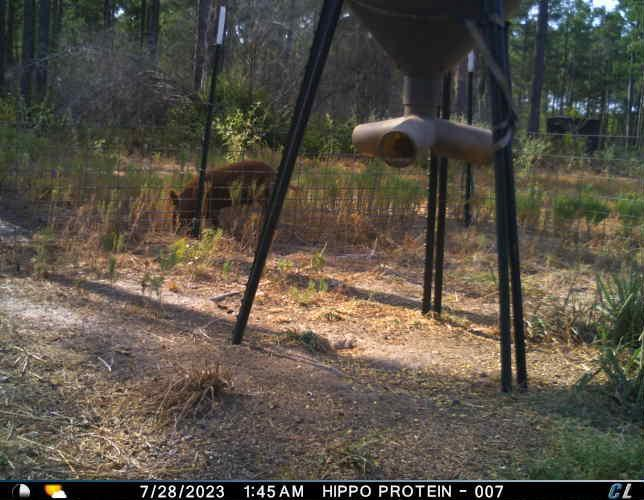Hog: (167, 155, 302, 236)
